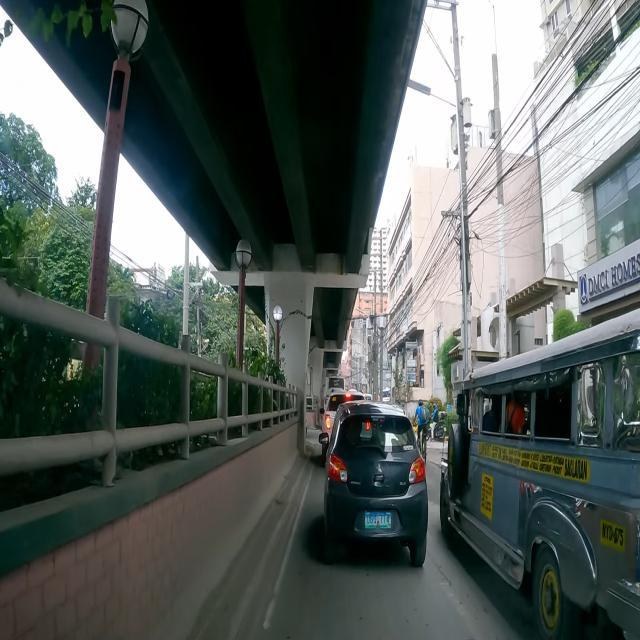bike: (412, 400, 430, 460)
car: (324, 400, 428, 566)
jeepney: (440, 310, 640, 640)
motorcycle: (426, 402, 447, 440)
